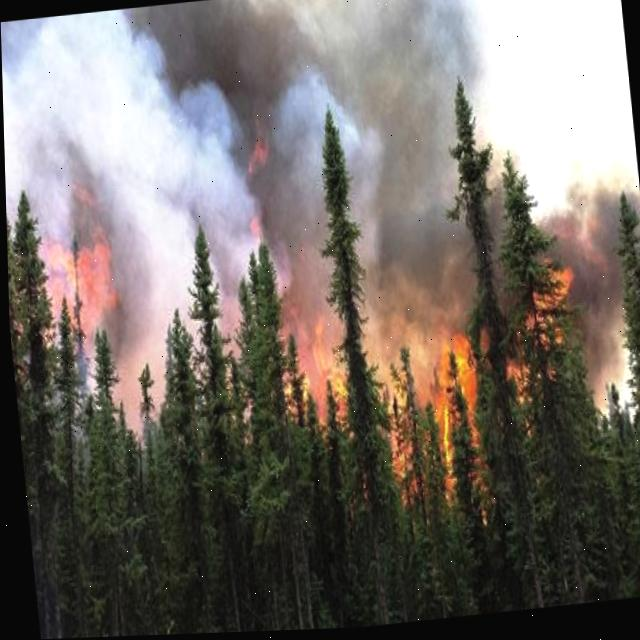fire: (498, 162, 640, 611), (390, 304, 535, 621)
smoke: (1, 0, 640, 427)
